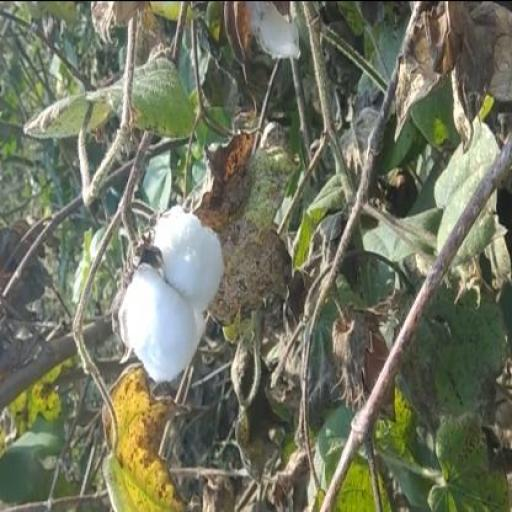cotton_ready: (115, 206, 231, 384)
